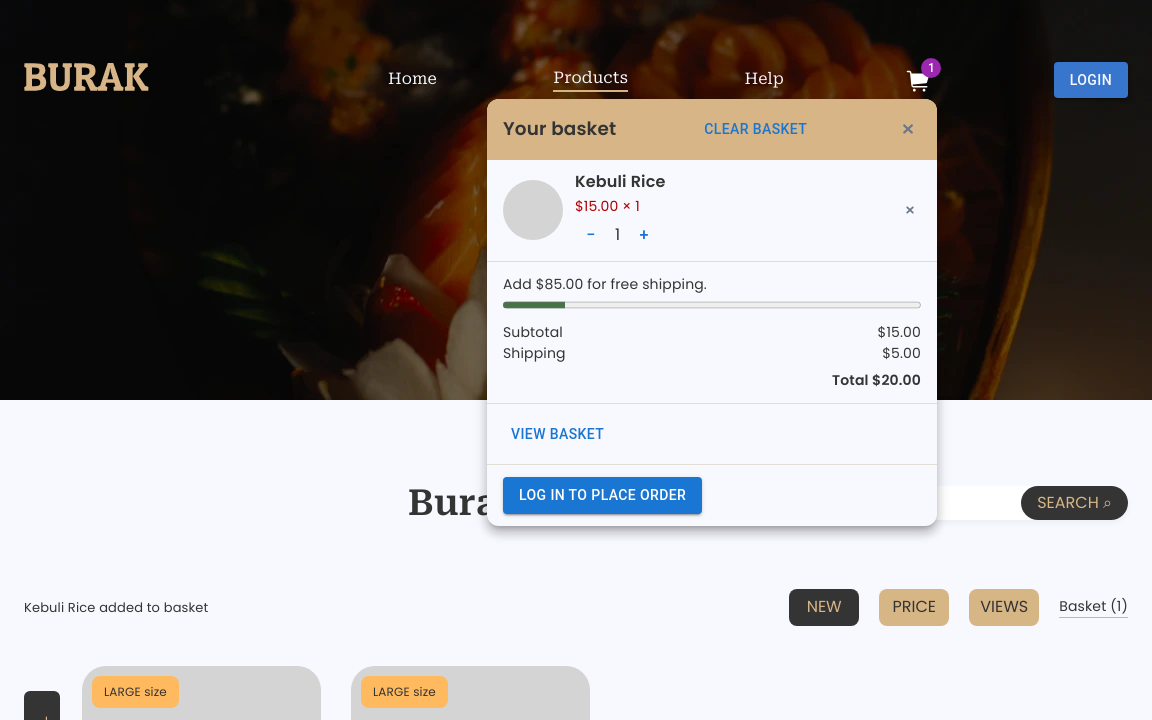
both headers share basket quantities and prompt guests to log in before checkout
The image size is (1152, 720).
Earlier steps of the test are not shown.
Step 1. Click the button "Log in to place order" → point(603, 495), box x1=503 y1=477 x2=702 y2=514
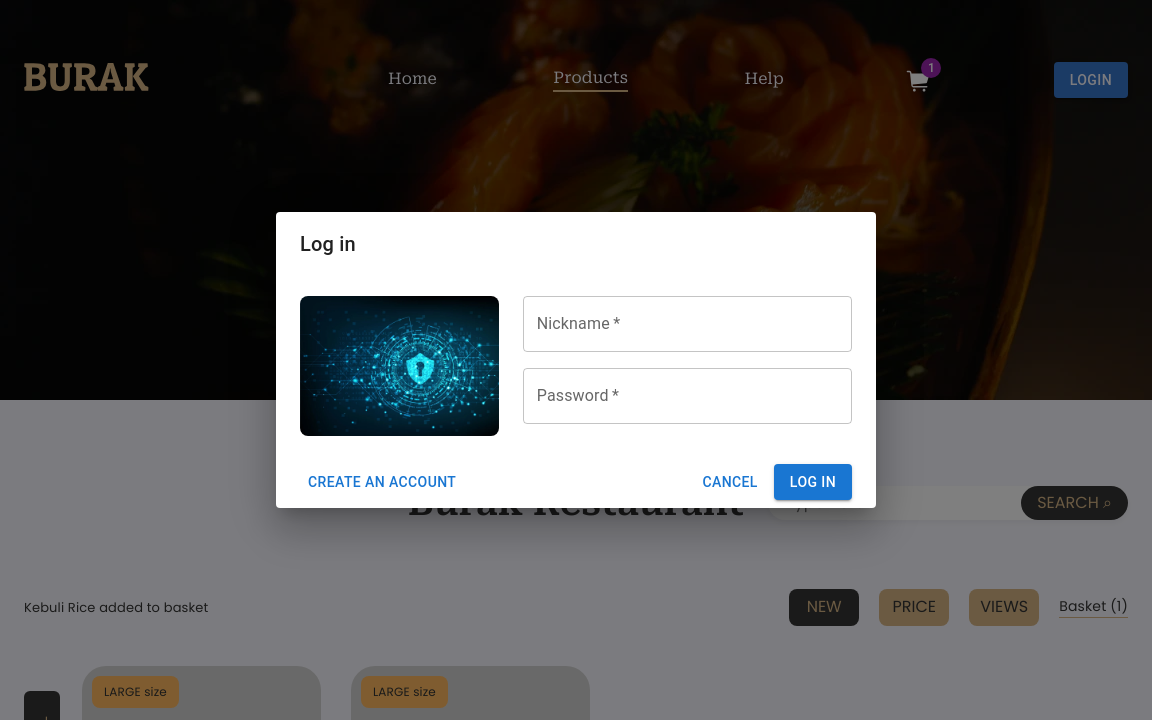
Expected: the dialog "Log in" is shown, x1=276 y1=212 x2=876 y2=508
